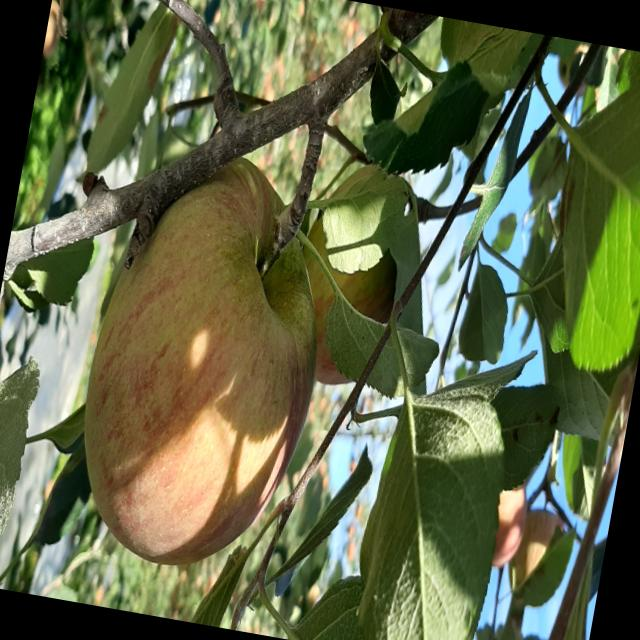fresh: (53, 127, 355, 595)
